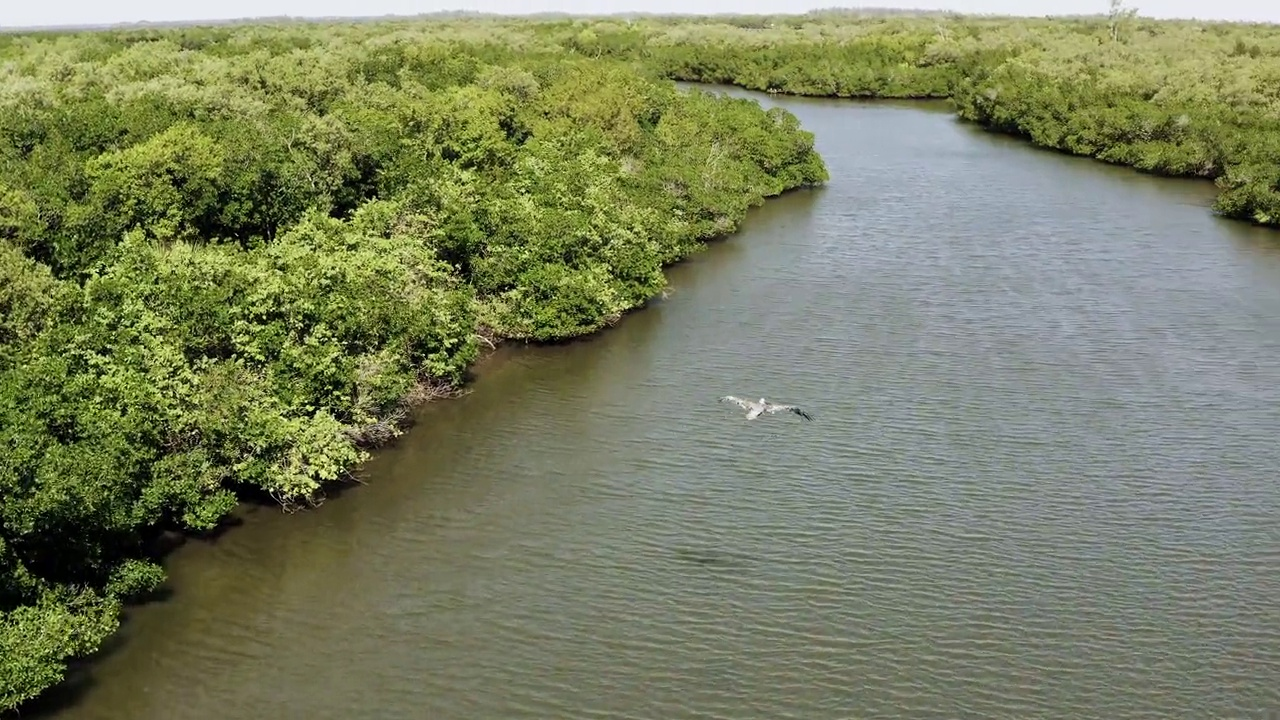bird: (714, 392, 811, 424)
